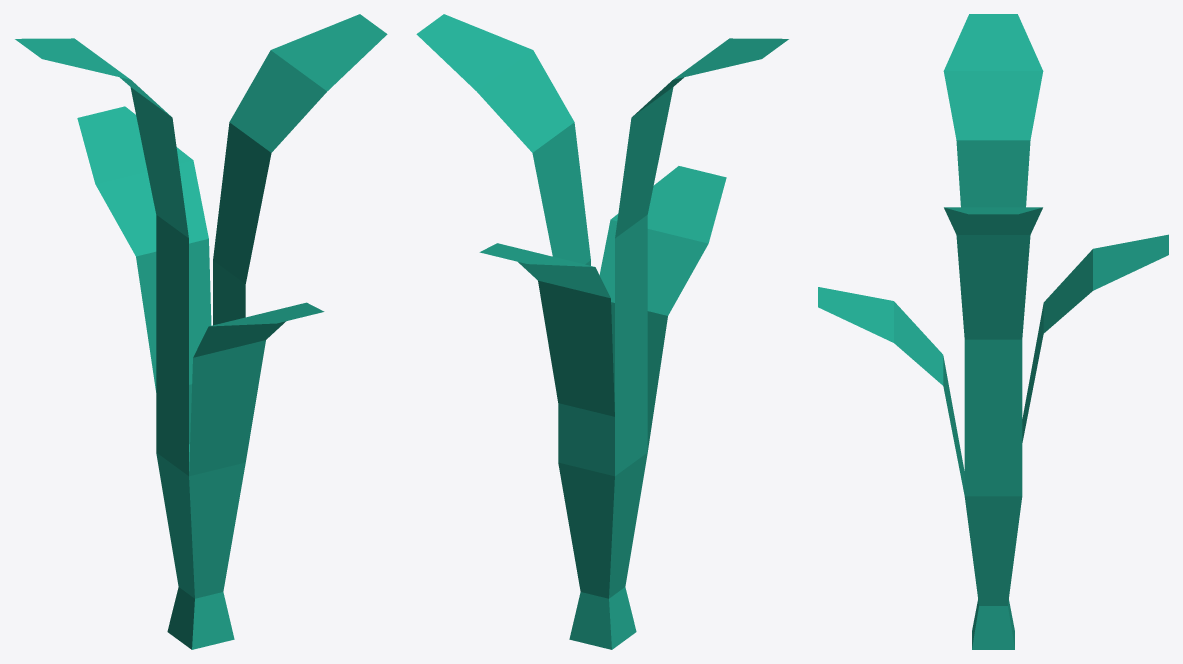
The model's file is crops_leafsStageB.glb.
3 renders of one model, left to right at view 1: azimuth 30°, elevation 25°; view 2: azimuth 150°, elevation 25°; view 3: azimuth 270°, elevation 25°, orthographic. The views are drawn at different scales.
Visible parts, largest first — view 1: crops_leafsStageB; view 2: crops_leafsStageB; view 3: crops_leafsStageB.
Boxes of the visible parts, x1=… form: crops_leafsStageB: x1=15, y1=14, x2=387, y2=649; crops_leafsStageB: x1=416, y1=14, x2=788, y2=649; crops_leafsStageB: x1=818, y1=14, x2=1168, y2=649.
Bounding box in the file's own units: 0.4673 × 0.8125 × 0.4673.
